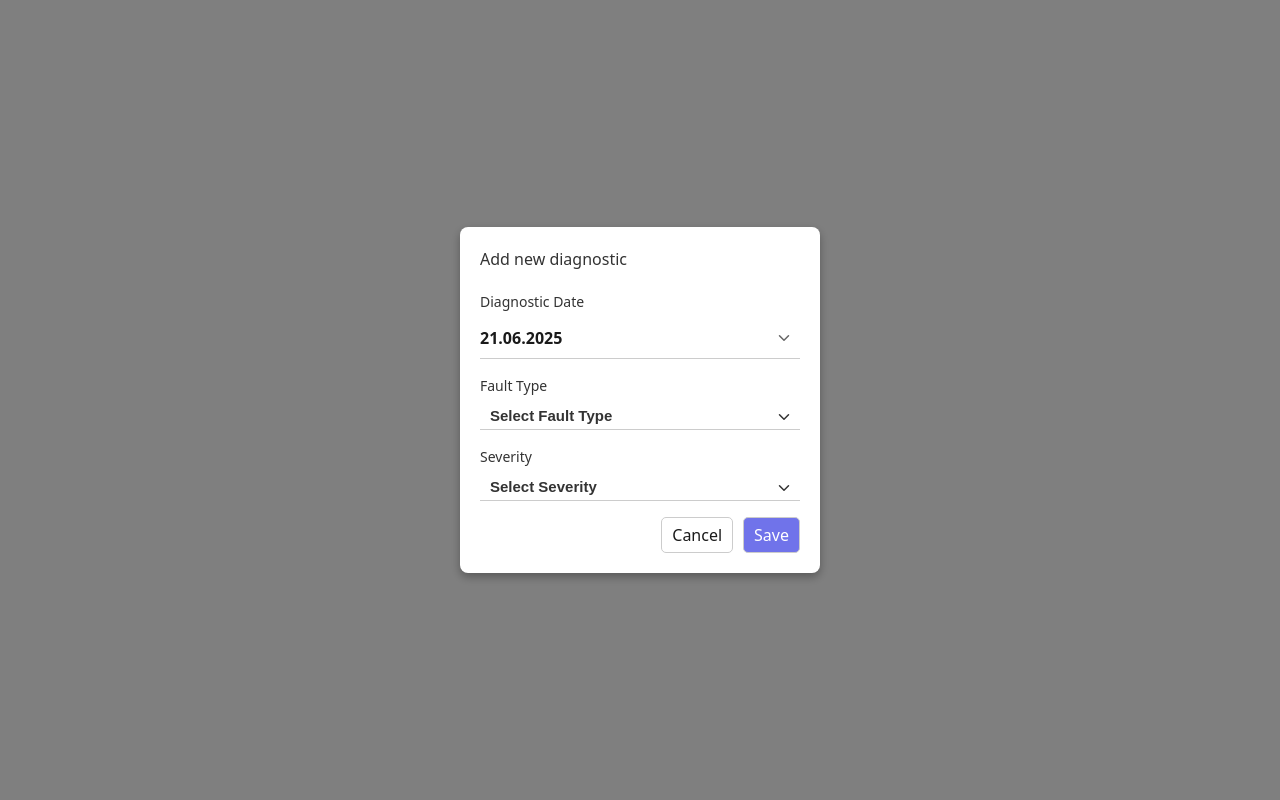
Modal form validation › Shows validation errors when submitting empty form
The image size is (1280, 800).
Click the button "Save": (772, 535) [743,517,800,553]
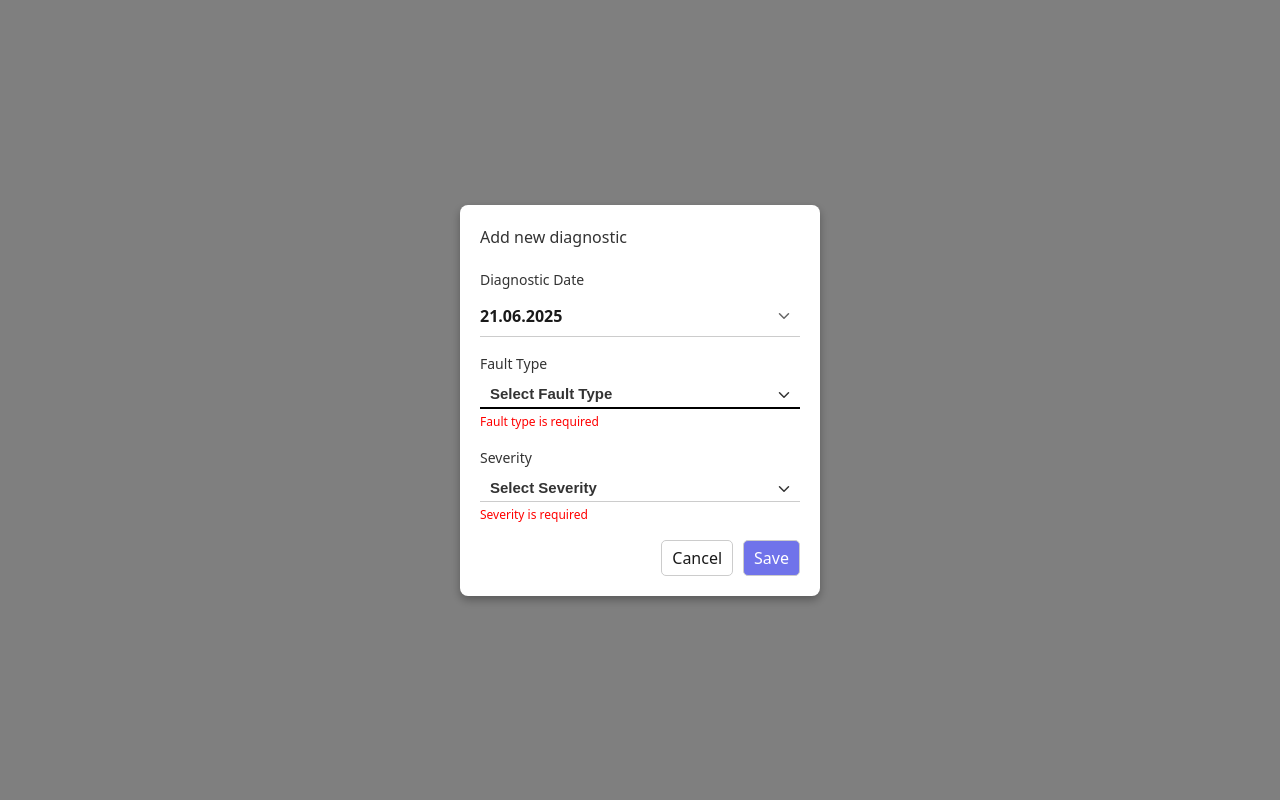
Check: the text "Fault type is required" is shown, box [480,412,599,430]
Check: the text "Severity is required" is shown, box [480,506,588,522]
